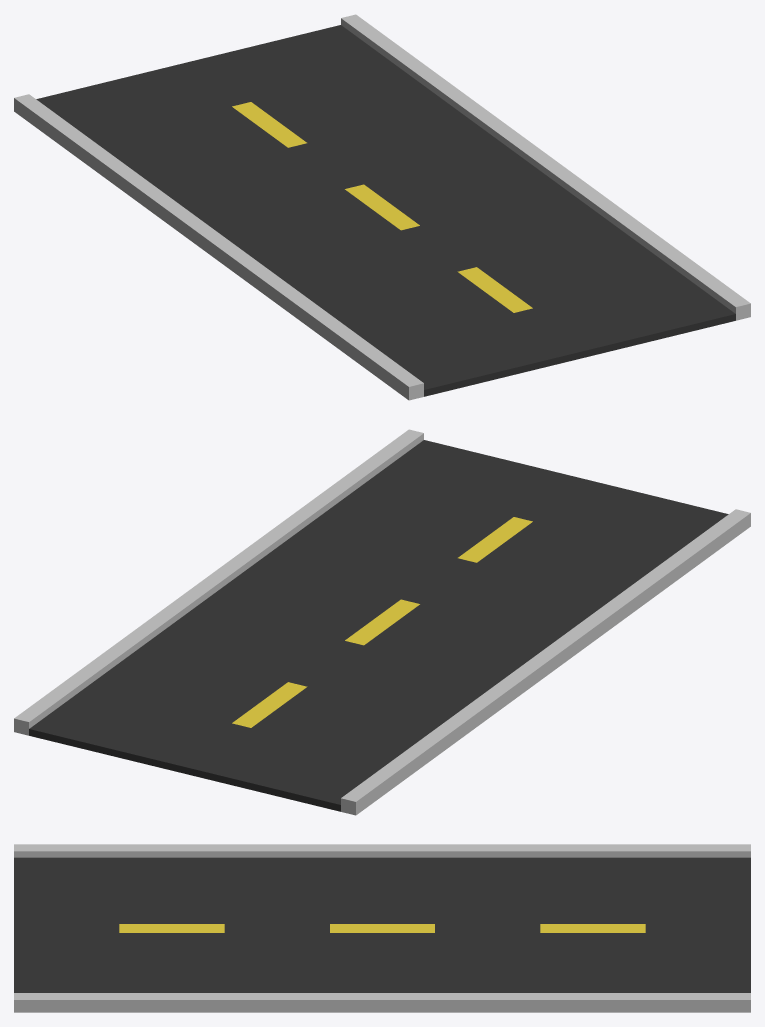
Rendered from road1.fbx.
The picture shows the model from 3 angles, top to bottom: view 1: azimuth 30°, elevation 25°; view 2: azimuth 150°, elevation 25°; view 3: azimuth 270°, elevation 25°; orthographic projection. The views are drawn at different scales.
Parts seen in each view (by area): view 1: Road; view 2: Road; view 3: Road.
Part boxes in pixels (x1=…): Road: x1=14, y1=14, x2=750, y2=400; Road: x1=14, y1=429, x2=750, y2=815; Road: x1=14, y1=844, x2=750, y2=1012.
Bounding box in the file's own units: 1000 × 38 × 2000.
